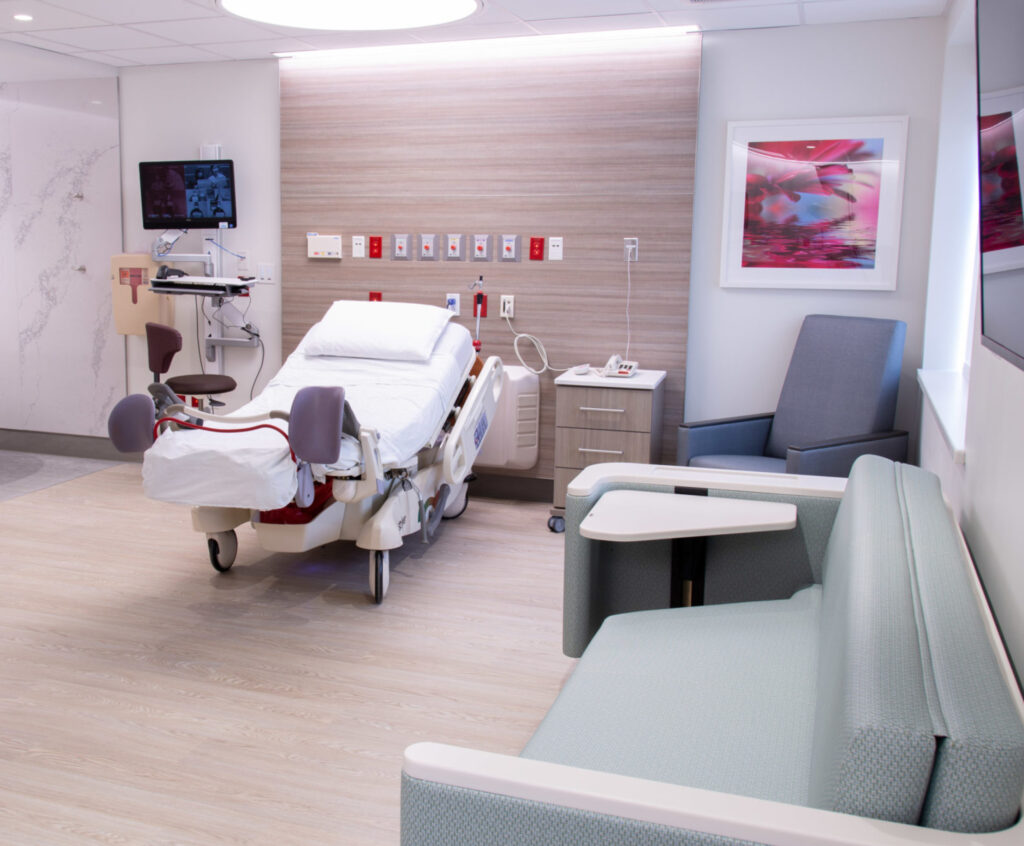bedrail: (439, 353, 506, 494)
bedside_monitor: (138, 156, 257, 362), (134, 159, 236, 232)
bedside_table: (548, 365, 666, 533)
chair: (674, 311, 920, 477), (138, 315, 237, 413)
handle: (575, 441, 625, 457), (578, 401, 628, 417)
hospital_bed: (141, 302, 506, 601)
sofa: (400, 451, 1024, 846)
